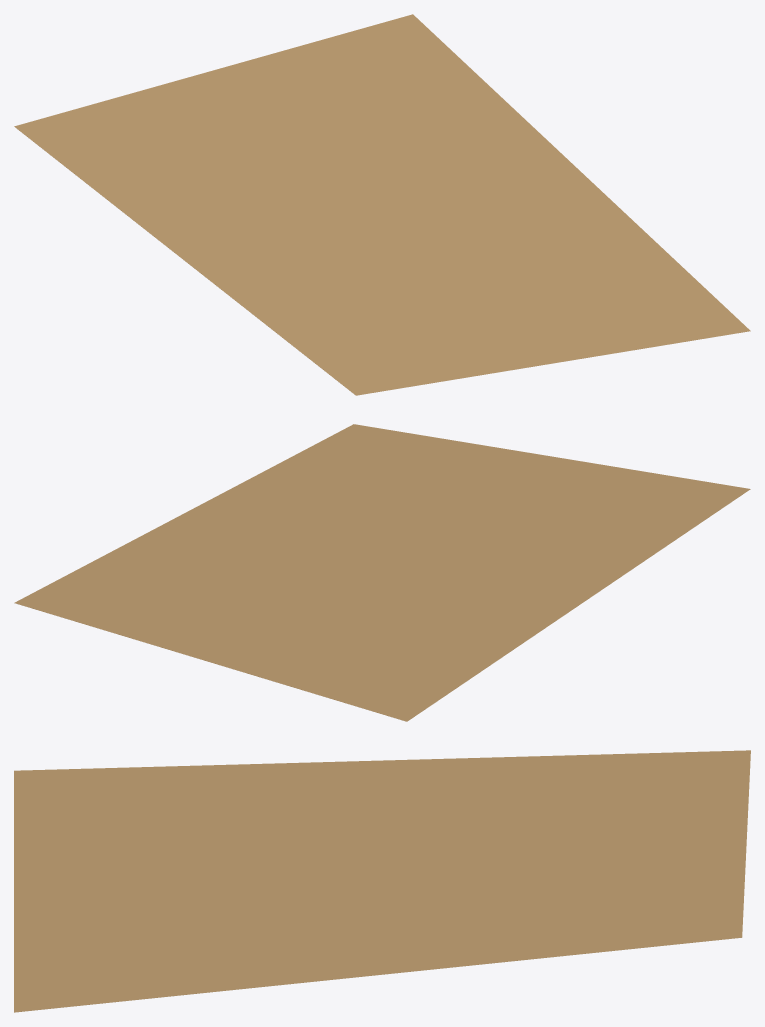
File: papel.fbx
3 views of the same model, one above another, from view 1: azimuth 30°, elevation 25°; view 2: azimuth 150°, elevation 25°; view 3: azimuth 270°, elevation 25° (orthographic). The views are drawn at different scales.
Visible parts, largest first — view 1: Plane; view 2: Plane; view 3: Plane.
Part boxes in pixels (bbox=[...]): Plane: bbox=[14, 14, 750, 395]; Plane: bbox=[14, 424, 750, 721]; Plane: bbox=[14, 750, 750, 1012].
Bounding box in the file's own units: 10.04 × 1.69 × 15.07.
